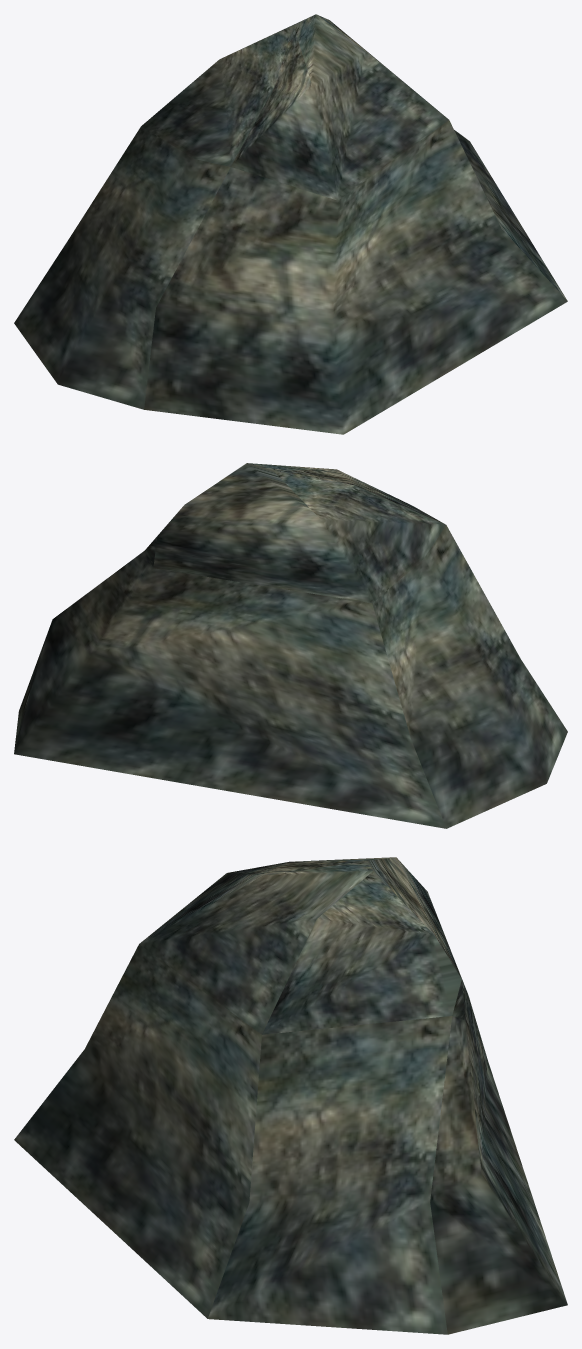
The model's file is pir_m_are_isl_rockBig_low.fbx.
3 renders of one model, top to bottom at view 1: azimuth 30°, elevation 25°; view 2: azimuth 150°, elevation 25°; view 3: azimuth 270°, elevation 25°, orthographic. The views are drawn at different scales.
Visible parts, largest first — view 1: horizon_lod; view 2: horizon_lod; view 3: horizon_lod.
Part boxes in pixels (x1,y1,x2,y2): horizon_lod: [14, 14, 567, 434]; horizon_lod: [14, 463, 567, 828]; horizon_lod: [14, 857, 567, 1334].
Size of the model in its own units: 118557 by 65765 by 96296.
Materials: 1 (1 with a texture image).
